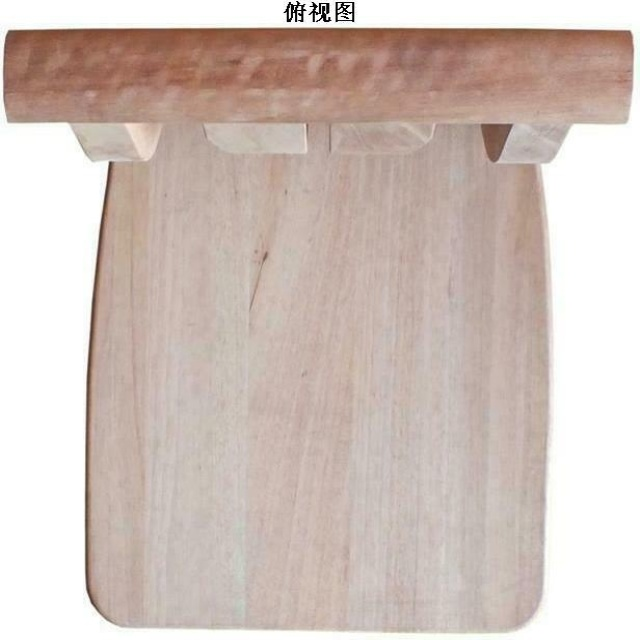obstacle: (4, 28, 632, 630)
